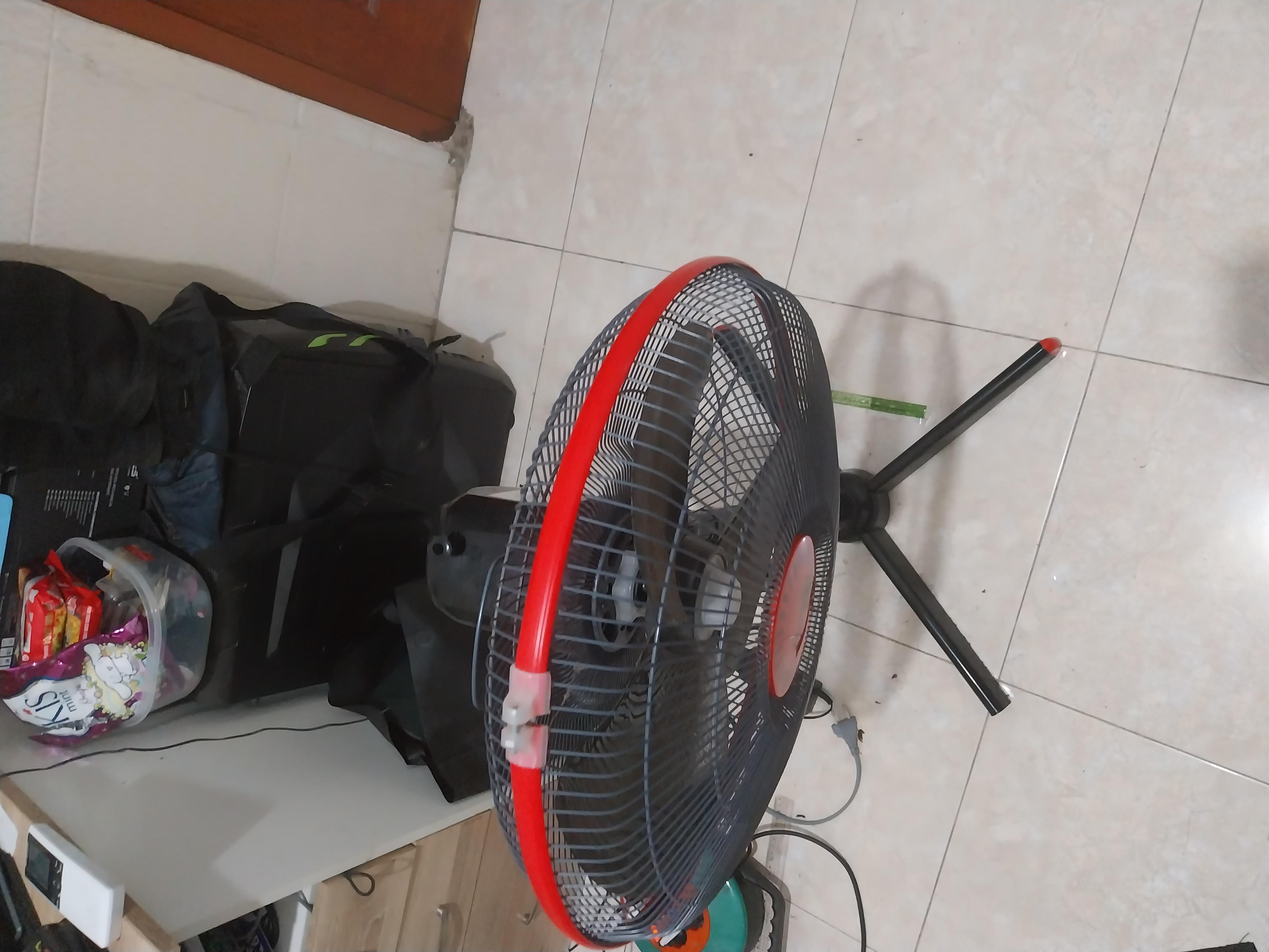door-stuff: (1079, 30, 1269, 361)
floor-other-merged: (0, 325, 1268, 951)
remote: (0, 1, 187, 112)
table-merged: (0, 0, 361, 428)
wall: (778, 0, 1269, 357)
